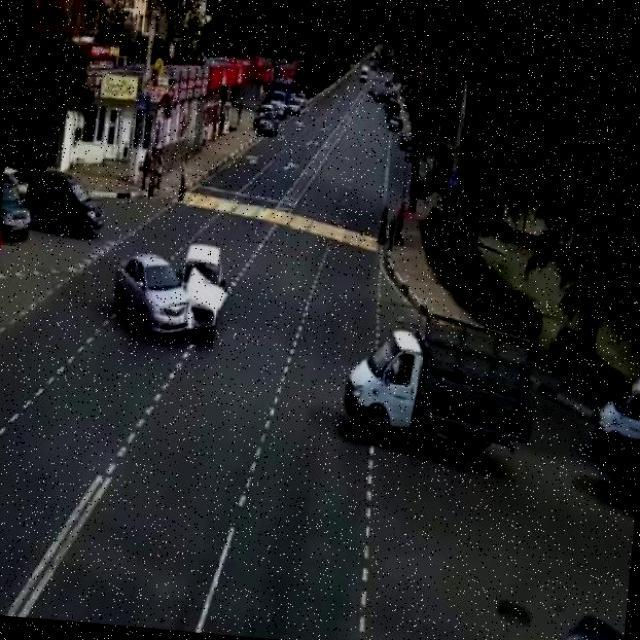accident: (99, 228, 233, 357)
